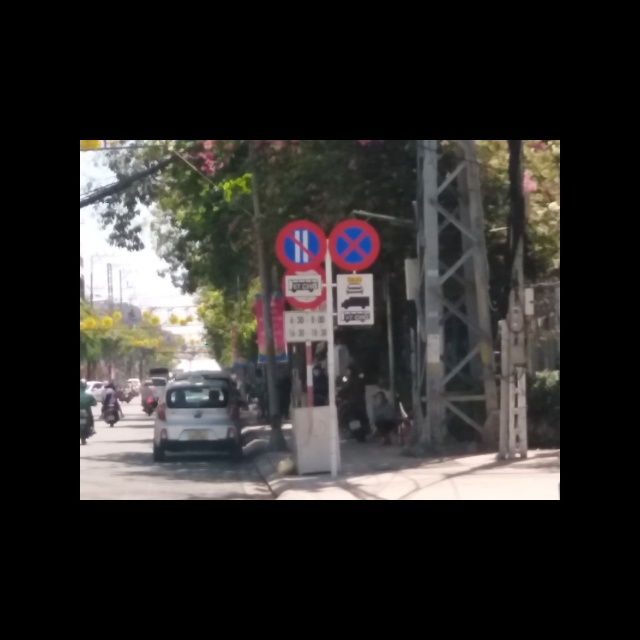Cấm dừng xe và đỗ xe: (327, 218, 380, 272)
Cấm đỗ xe ngày chẵn: (274, 220, 326, 271)
